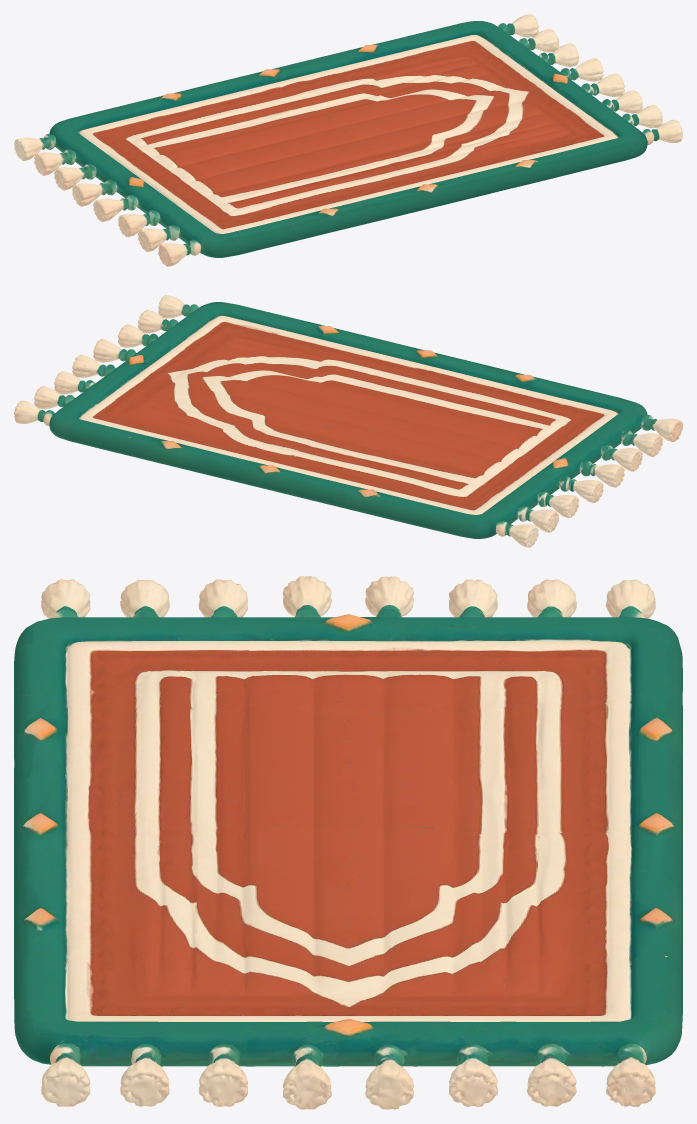
The model's file is masjid.glb.
3 renders of one model, top to bottom at view 1: azimuth 30°, elevation 25°; view 2: azimuth 150°, elevation 25°; view 3: azimuth 270°, elevation 25°, orthographic. The views are drawn at different scales.
Size of the model in its own units: 1.9 by 0.0808 by 1.08.
Materials: 1 (1 with a texture image).
